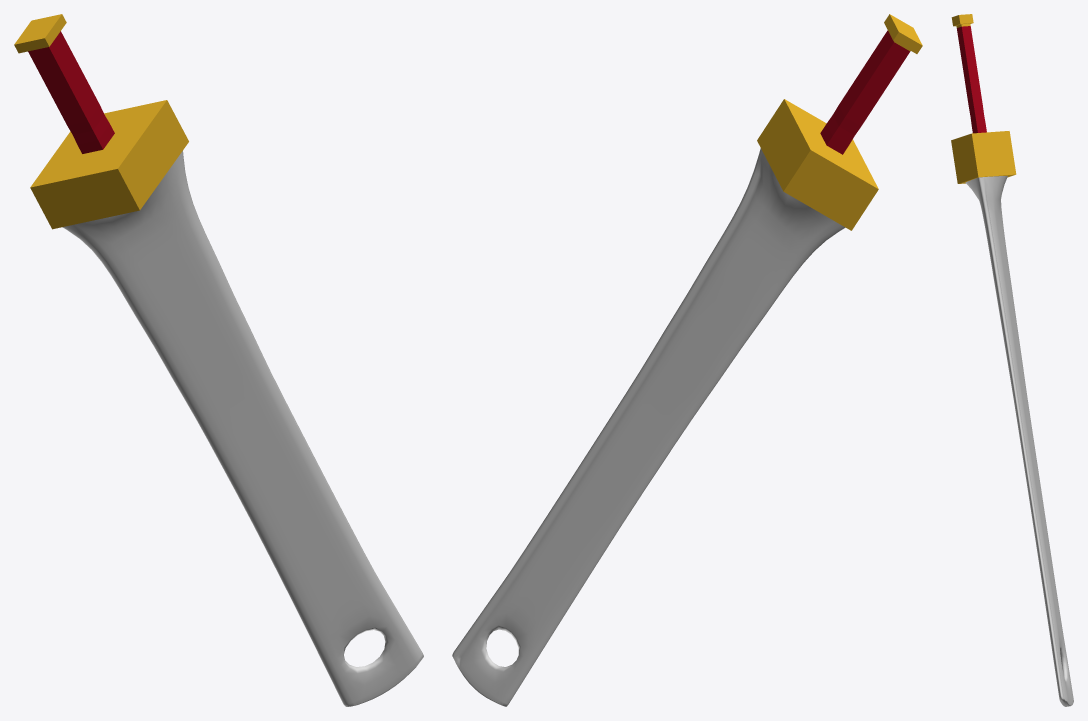
File: landshknetch_sword_text.dae
3 views of the same model, side by side, from view 1: azimuth 30°, elevation 25°; view 2: azimuth 150°, elevation 25°; view 3: azimuth 270°, elevation 25° (orthographic). The views are drawn at different scales.
Parts seen in each view (by area): view 1: Cube, Cylinder; view 2: Cube, Cylinder; view 3: Cube, Cylinder.
Part boxes in pixels (x1=…): Cube: x1=62, y1=151, x2=423, y2=706; Cylinder: x1=14, y1=14, x2=188, y2=229; Cube: x1=452, y1=148, x2=845, y2=706; Cylinder: x1=757, y1=14, x2=922, y2=230; Cube: x1=965, y1=176, x2=1073, y2=706; Cylinder: x1=951, y1=14, x2=1016, y2=183.
Size of the model in its own units: 2.79 by 0.918 by 4.66.
